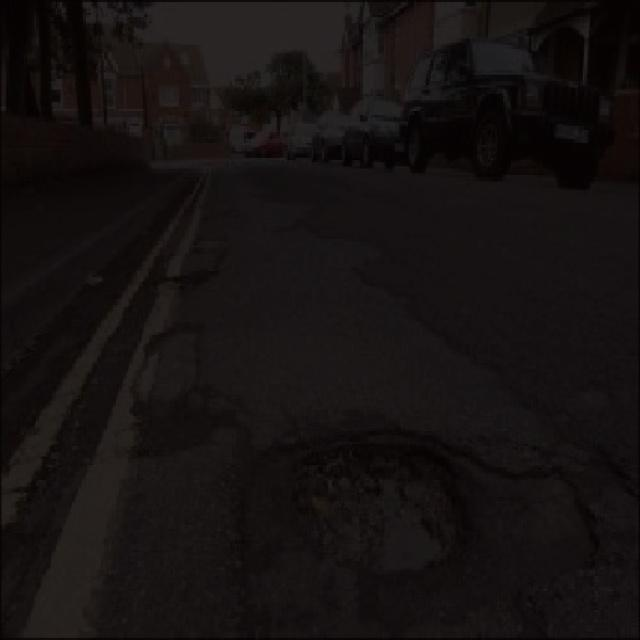Pothole: (277, 431, 478, 583), (120, 311, 214, 431), (164, 258, 222, 295)
